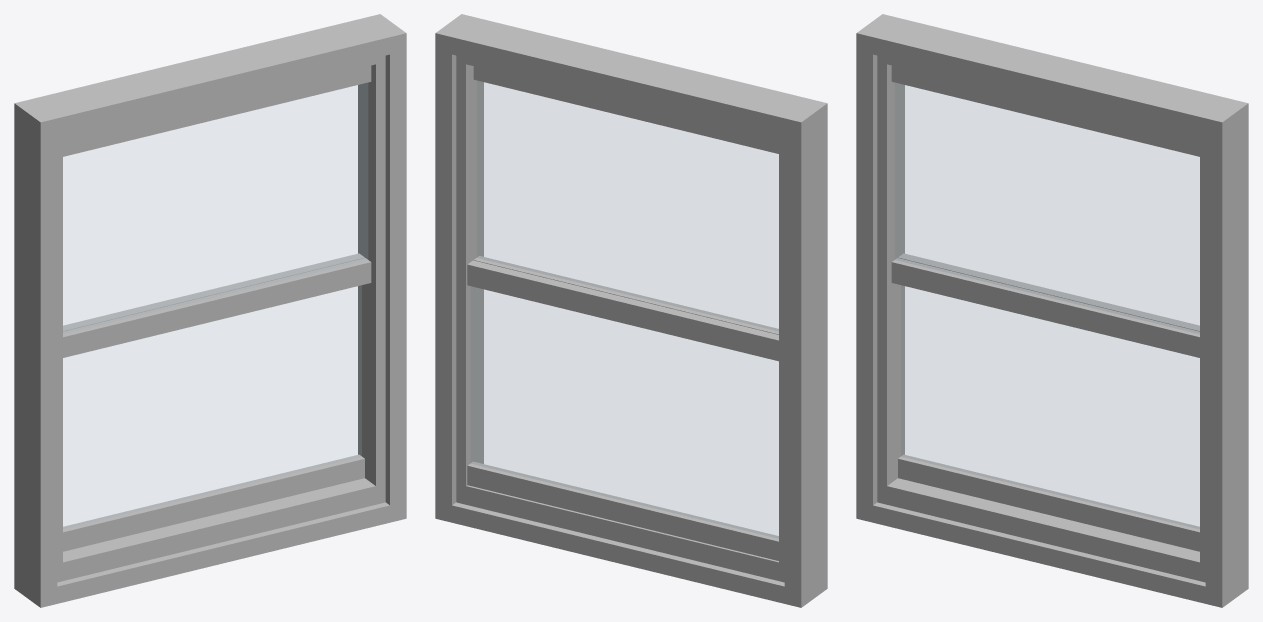
File: SM_window_01.gltf
3 views of the same model, side by side, from view 1: azimuth 30°, elevation 25°; view 2: azimuth 150°, elevation 25°; view 3: azimuth 330°, elevation 25° (orthographic).
Parts seen in each view (by area): view 1: SM_window_01; view 2: SM_window_01; view 3: SM_window_01.
Boxes of the visible parts, left/top/right/bottom form: SM_window_01: left=14, top=14, right=406, bottom=607; SM_window_01: left=435, top=14, right=827, bottom=607; SM_window_01: left=856, top=14, right=1248, bottom=607.
Size of the model in its own units: 1.1 by 1.4 by 0.1368.
